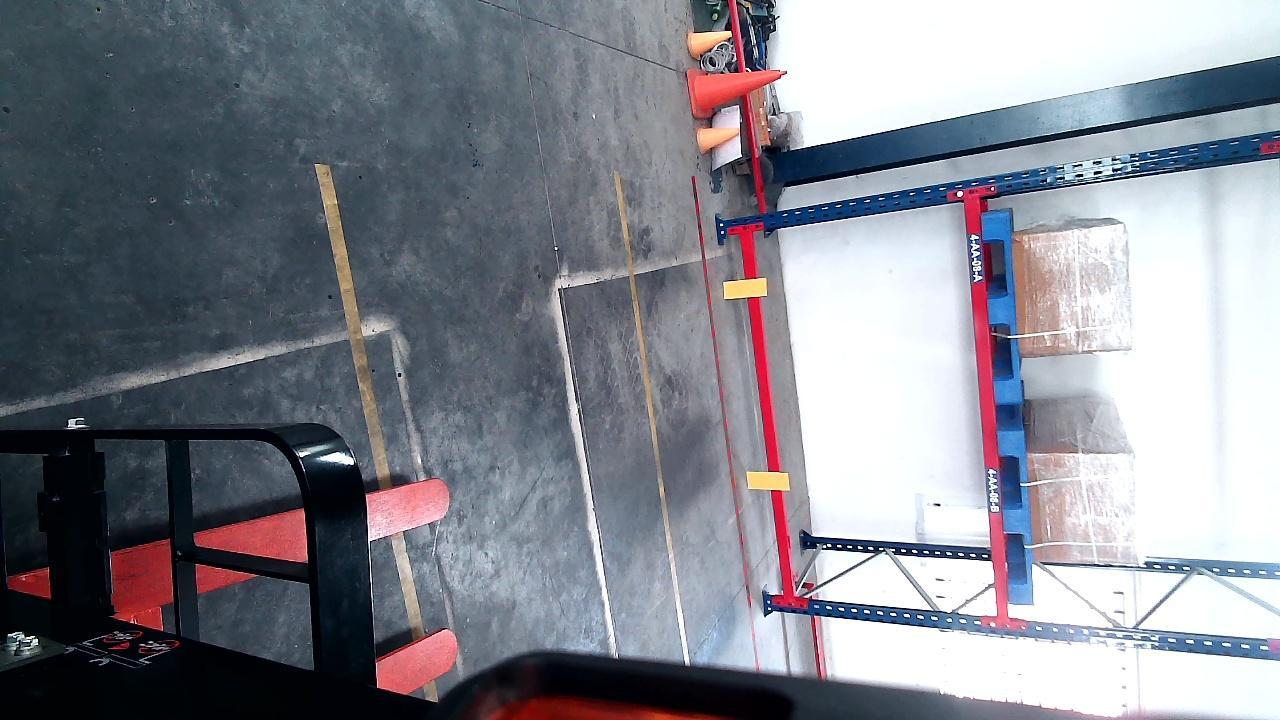red_line: (689, 176, 749, 605)
yellow_line: (318, 157, 438, 712), (610, 173, 683, 612)
